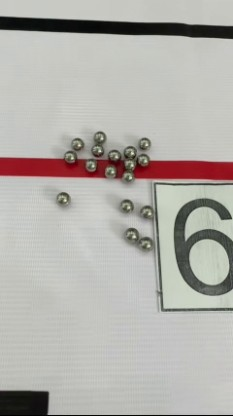ironball: (120, 221, 142, 245), (138, 231, 156, 254), (134, 133, 154, 151), (116, 194, 134, 214), (103, 145, 121, 164), (134, 151, 152, 169), (61, 148, 78, 166), (99, 162, 116, 180), (54, 189, 70, 208), (90, 140, 106, 159), (138, 202, 154, 221), (91, 126, 105, 145), (84, 155, 98, 174), (123, 143, 138, 159), (118, 169, 134, 184), (120, 155, 136, 170), (69, 135, 83, 151)
